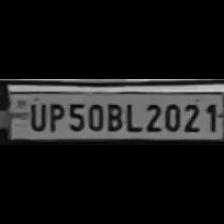0: (84, 100, 104, 132), (160, 100, 180, 132)
1: (202, 99, 220, 133)
2: (180, 100, 200, 134), (142, 100, 162, 132)
5: (65, 99, 85, 133)
B: (104, 100, 122, 132)
L: (122, 100, 142, 132)
P: (45, 100, 63, 132)
U: (26, 100, 46, 132)
